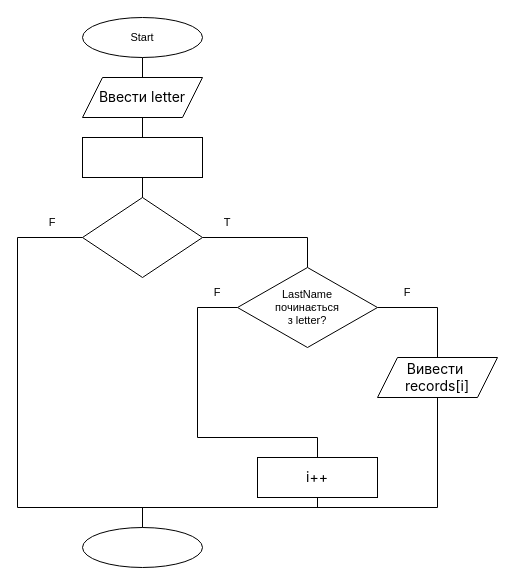
The diagram is 515 pixels wide and 585 high, and some of its shapes have lost their labels. The centre of each missing label's shape, as x and y in pixels:
"End" belongs at point (142, 547).
"i < size?" belongs at point (142, 237).
"i = 0" belongs at point (142, 157).
